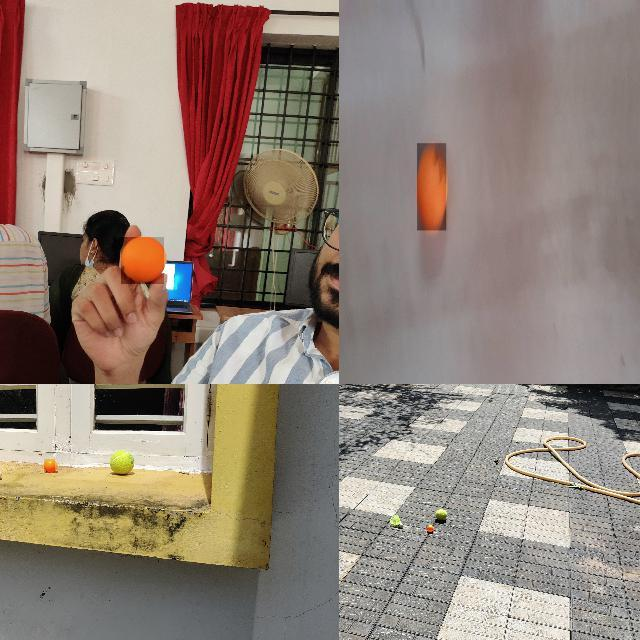ping-pong-ball: (416, 143, 446, 232), (121, 237, 165, 285), (44, 459, 56, 473), (426, 524, 434, 532)
